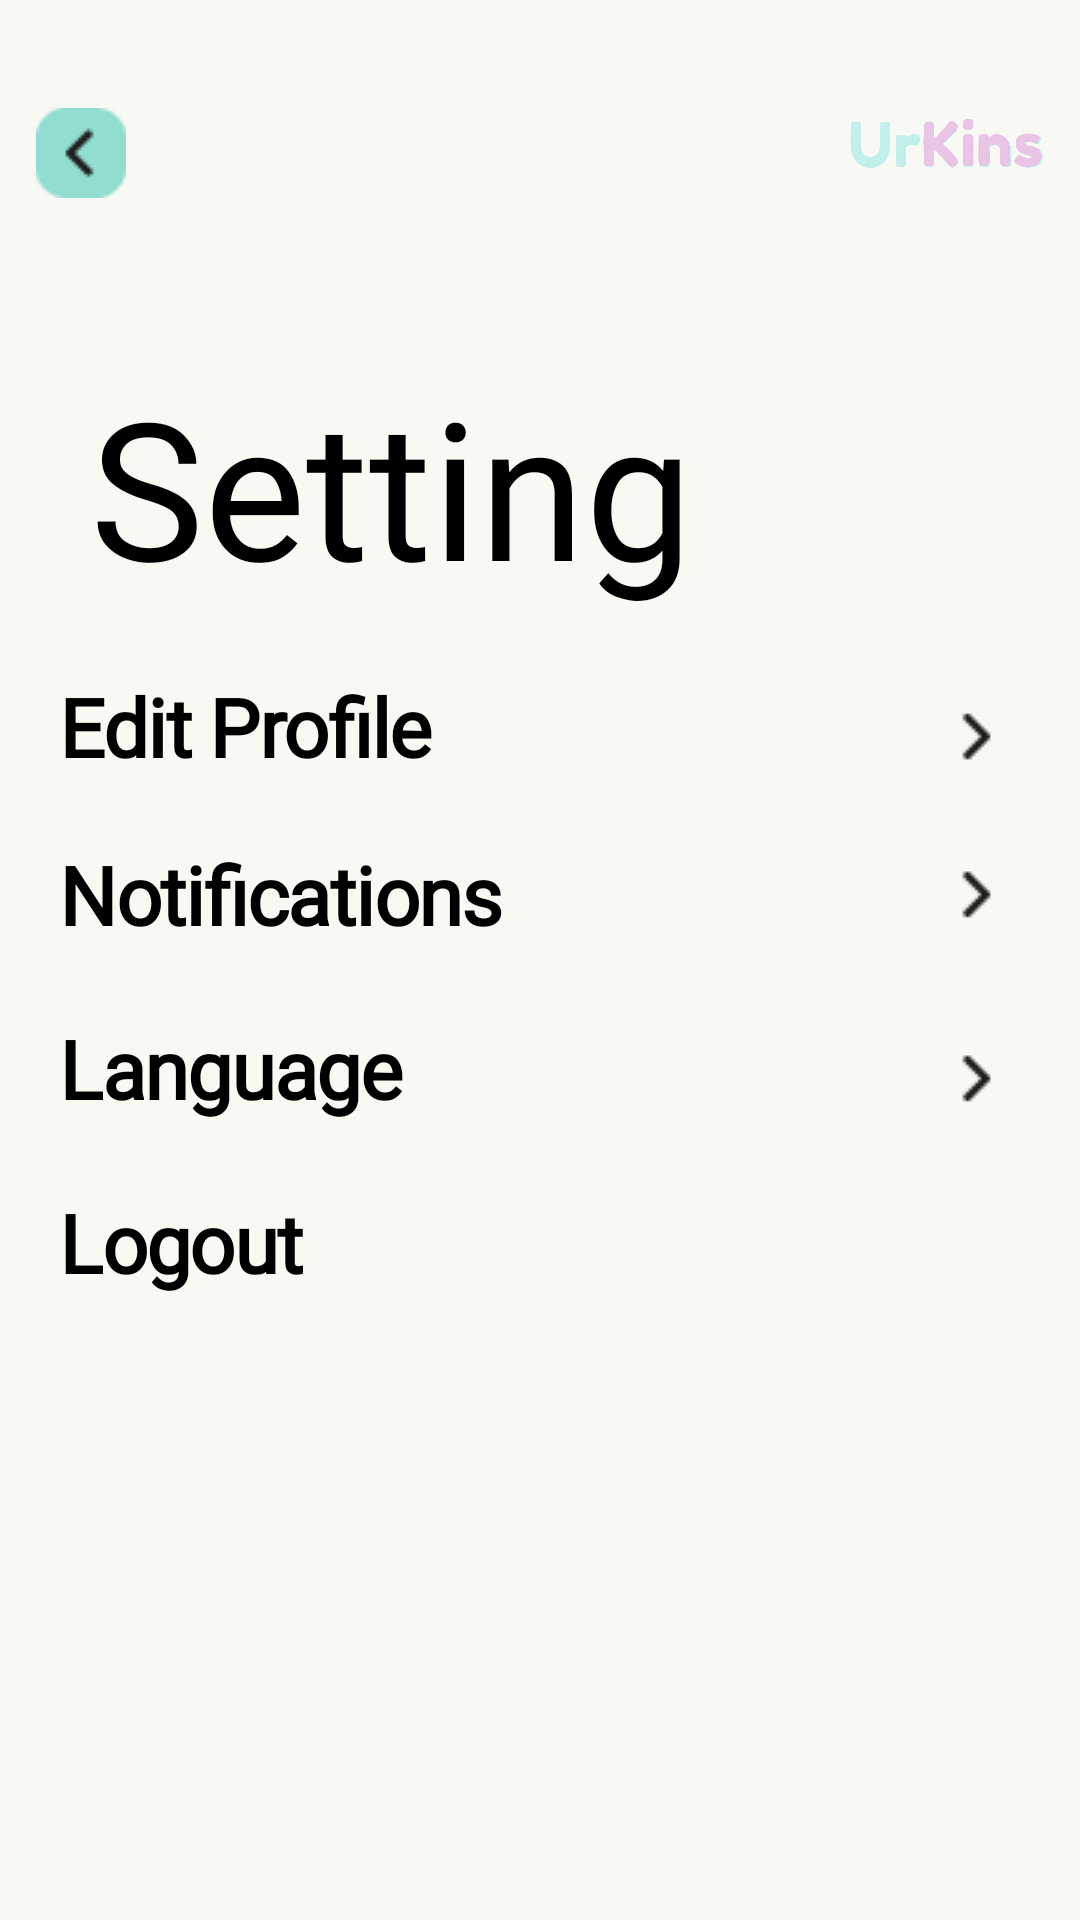

Named icons in this screenshot (1080*1920) and their bounding boxes, (x1, y1, x2, y2):
Back button: (36, 108, 126, 198)
